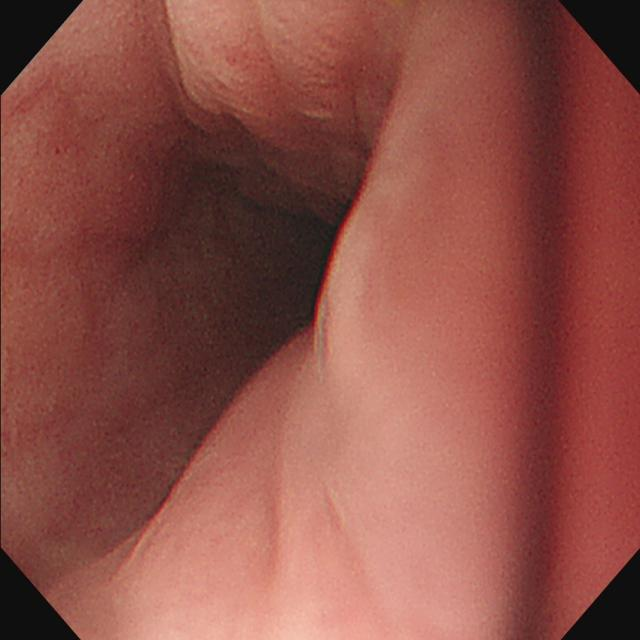E: (191, 173, 350, 355)
